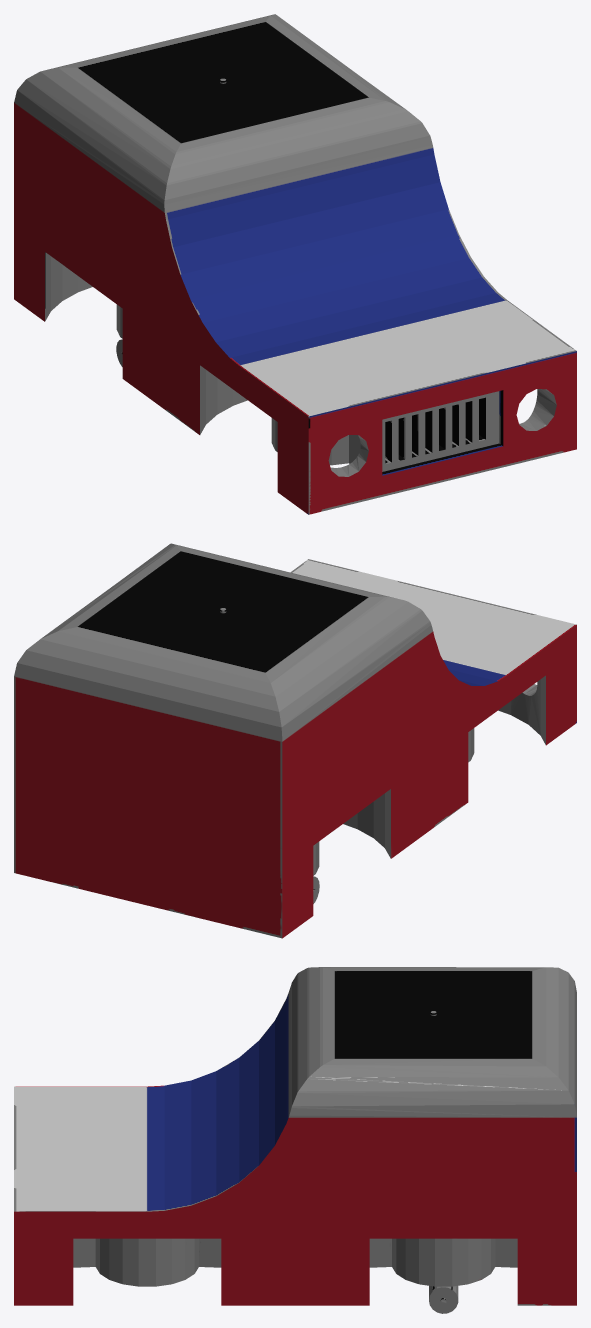
3 views of the same model, one above another, from view 1: azimuth 30°, elevation 25°; view 2: azimuth 150°, elevation 25°; view 3: azimuth 270°, elevation 25° (orthographic). The views are drawn at different scales.
Visible parts, largest first — view 1: base_link; view 2: base_link; view 3: base_link.
Part boxes in pixels (x1,y1,x2,y2): base_link: [14, 14, 576, 514]; base_link: [14, 543, 576, 938]; base_link: [14, 967, 576, 1313].
Bounding box in the file's own units: 0.508 × 0.9652 × 0.4878.
1 material, 1 textured.
